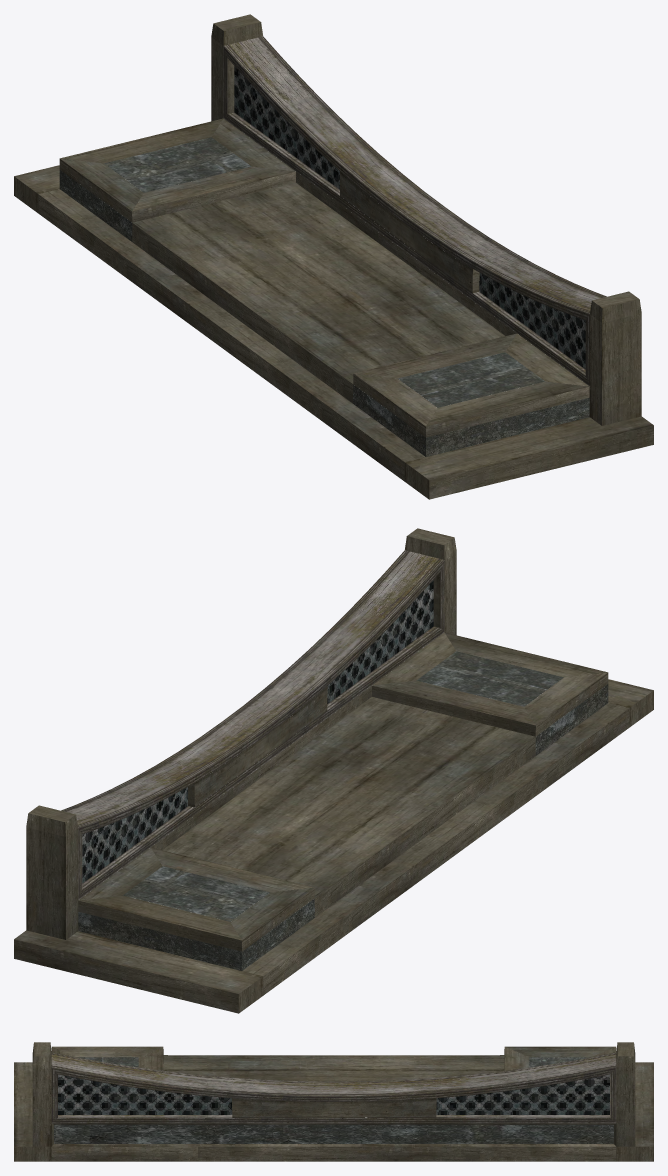
Rendered from dlc2skaalvilplatform01-transformed.glb.
The picture shows the model from 3 angles, top to bottom: view 1: azimuth 30°, elevation 25°; view 2: azimuth 150°, elevation 25°; view 3: azimuth 270°, elevation 25°; orthographic projection. The views are drawn at different scales.
Parts seen in each view (by area): view 1: default; view 2: default; view 3: default.
Part boxes in pixels (bbox=[...]): default: bbox=[14, 14, 653, 499]; default: bbox=[14, 528, 653, 1013]; default: bbox=[14, 1042, 653, 1161].
Bounding box in the file's own units: 1.7 × 0.9859 × 5.44.
3 materials, 3 textured.
